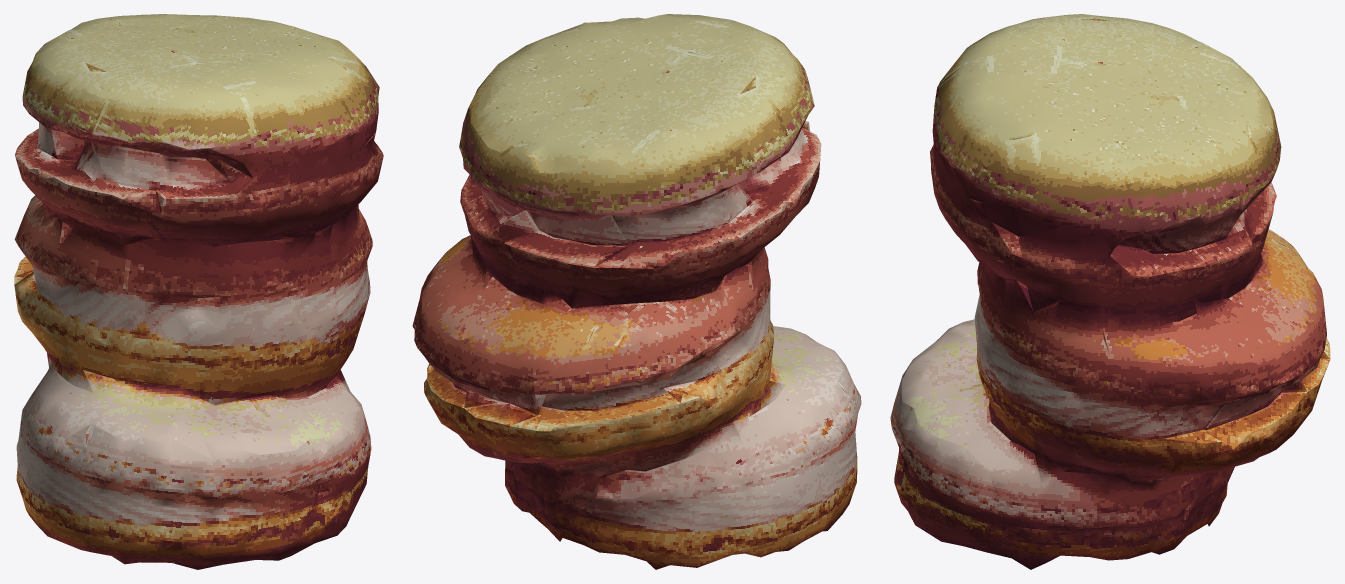
Rendered from sv_macarons.glb.
3 renders of one model, left to right at view 1: azimuth 30°, elevation 25°; view 2: azimuth 150°, elevation 25°; view 3: azimuth 270°, elevation 25°, orthographic.
Parts seen in each view (by area): view 1: sv_macarons; view 2: sv_macarons; view 3: sv_macarons.
Boxes of the visible parts, x1=… form: sv_macarons: x1=14, y1=14, x2=383, y2=569; sv_macarons: x1=412, y1=14, x2=861, y2=569; sv_macarons: x1=890, y1=14, x2=1330, y2=569.
Bounding box in the file's own units: 0.6538 × 0.8125 × 0.717.
Materials: 1 (1 with a texture image).
